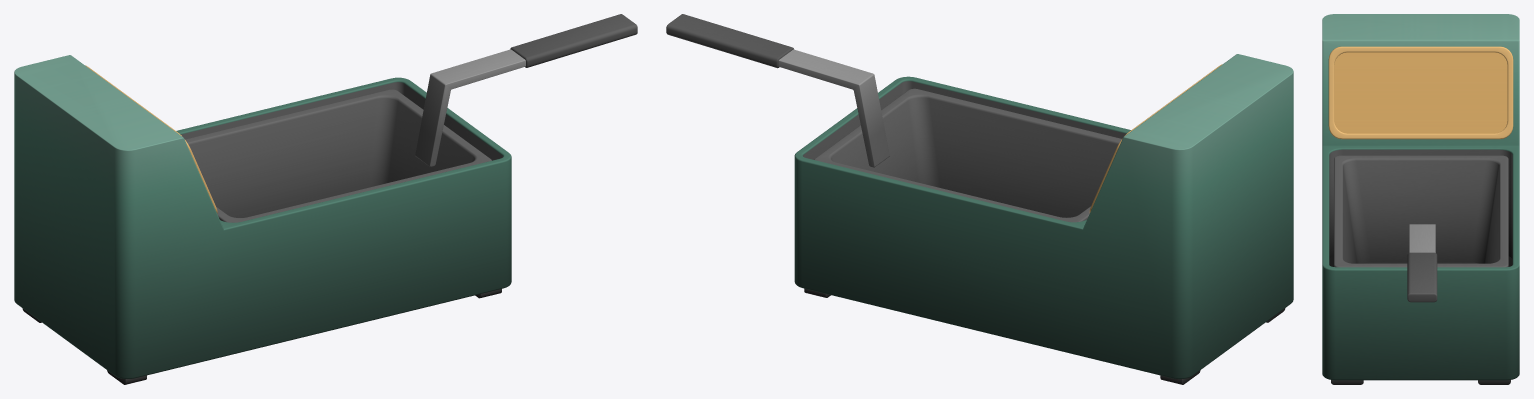
File: frier.fbx
3 views of the same model, side by side, from view 1: azimuth 30°, elevation 25°; view 2: azimuth 150°, elevation 25°; view 3: azimuth 270°, elevation 25° (orthographic). The views are drawn at different scales.
Visible parts, largest first — view 1: Fryer, Fryer Basket; view 2: Fryer, Fryer Basket; view 3: Fryer, Fryer Basket.
Boxes of the visible parts, x1,y1,x2,y2 form: Fryer: [14, 55, 511, 384]; Fryer Basket: [185, 14, 637, 222]; Fryer: [794, 54, 1293, 384]; Fryer Basket: [666, 14, 1121, 222]; Fryer: [1322, 14, 1519, 384]; Fryer Basket: [1334, 155, 1508, 302].
Bounding box in the file's own units: 84.97 × 34.37 × 29.57.
